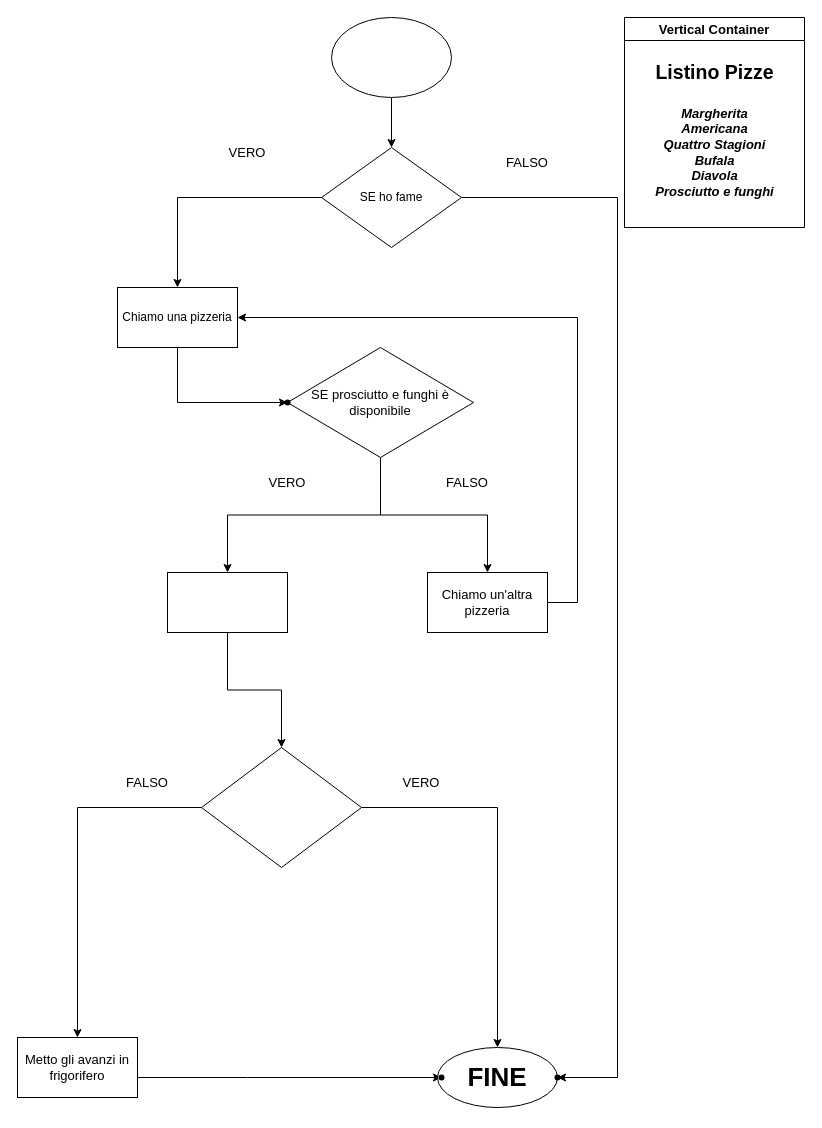
Image size: 822x1128. Some labels were removed from this diagram. The centre of each missing label's shape, as x and y in pixels:
Ordino la pizza: pixel 227 602
SE la pizza è finita: pixel 281 807
START: pixel 391 57
